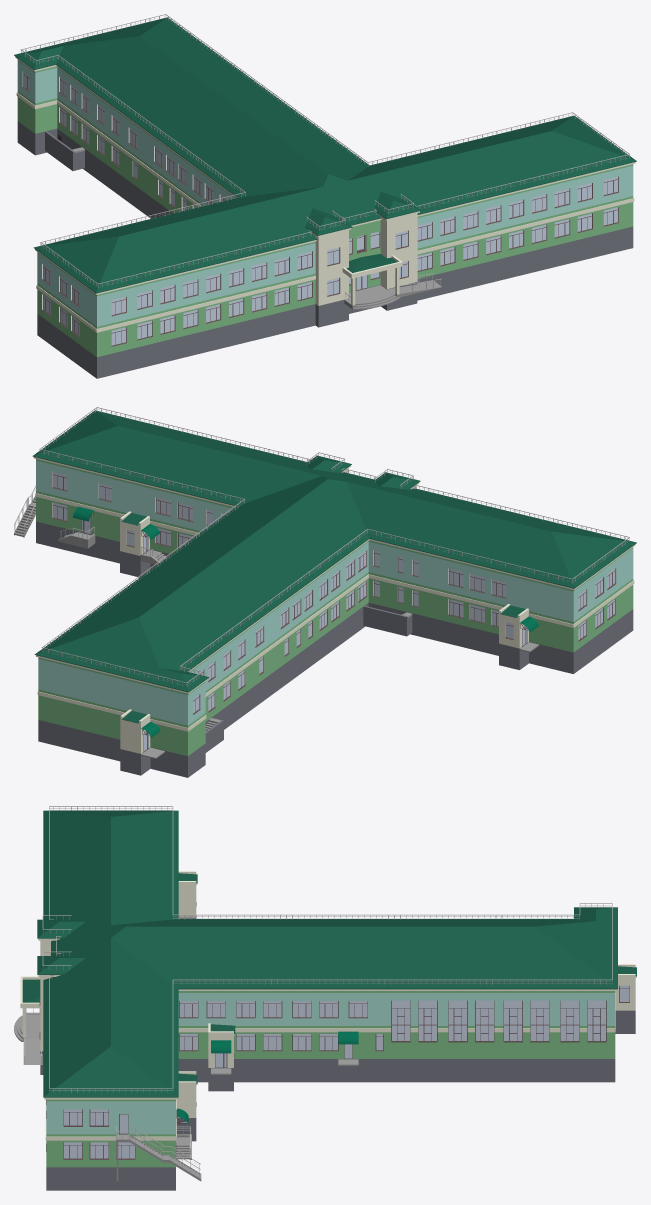
The model's file is renga.obj.
3 renders of one model, top to bottom at view 1: azimuth 30°, elevation 25°; view 2: azimuth 150°, elevation 25°; view 3: azimuth 270°, elevation 25°, orthographic. The views are drawn at different scales.
Visible parts, largest first — view 1: renga; view 2: renga; view 3: renga.
Boxes of the visible parts, x1,y1,x2,y2 form: renga: (14,14,636,378); renga: (14,407,636,777); renga: (14,806,636,1190).
Size of the model in its own units: 73.67 by 14.41 by 66.66.
